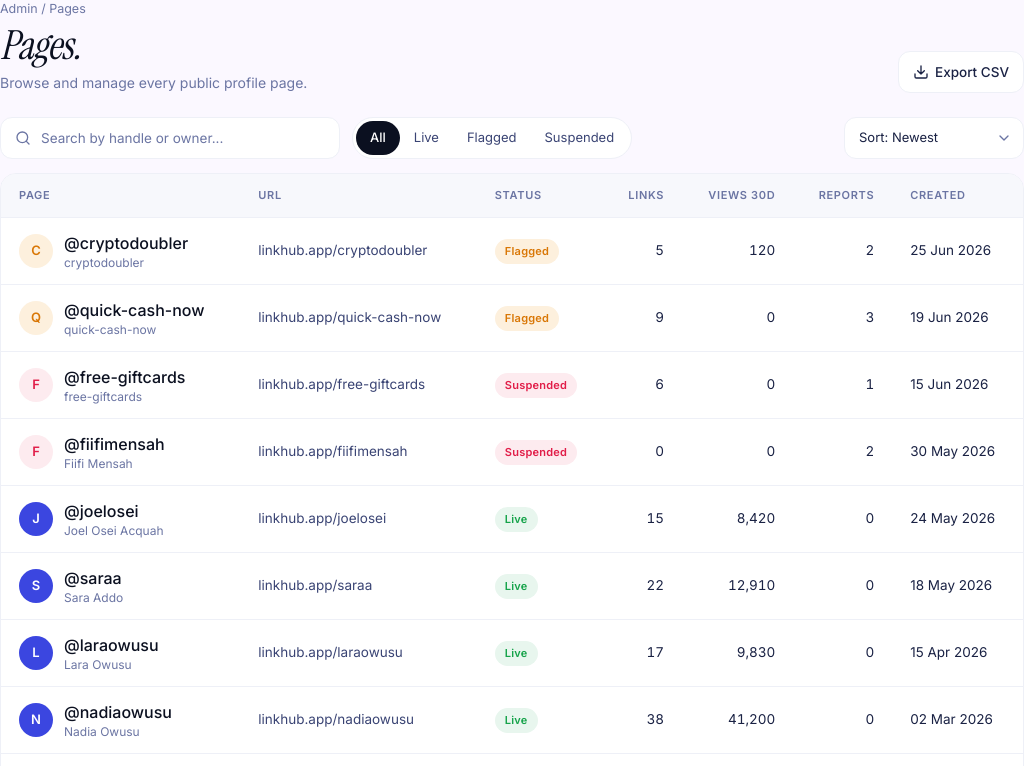
Test: PagesClient › searches by owner name
expect the text "@cryptodoubler" is shown: met, box [64,230,188,254]
In the search field named "Search pages": x=183, y=138 [41,128,325,148], type "saraa"
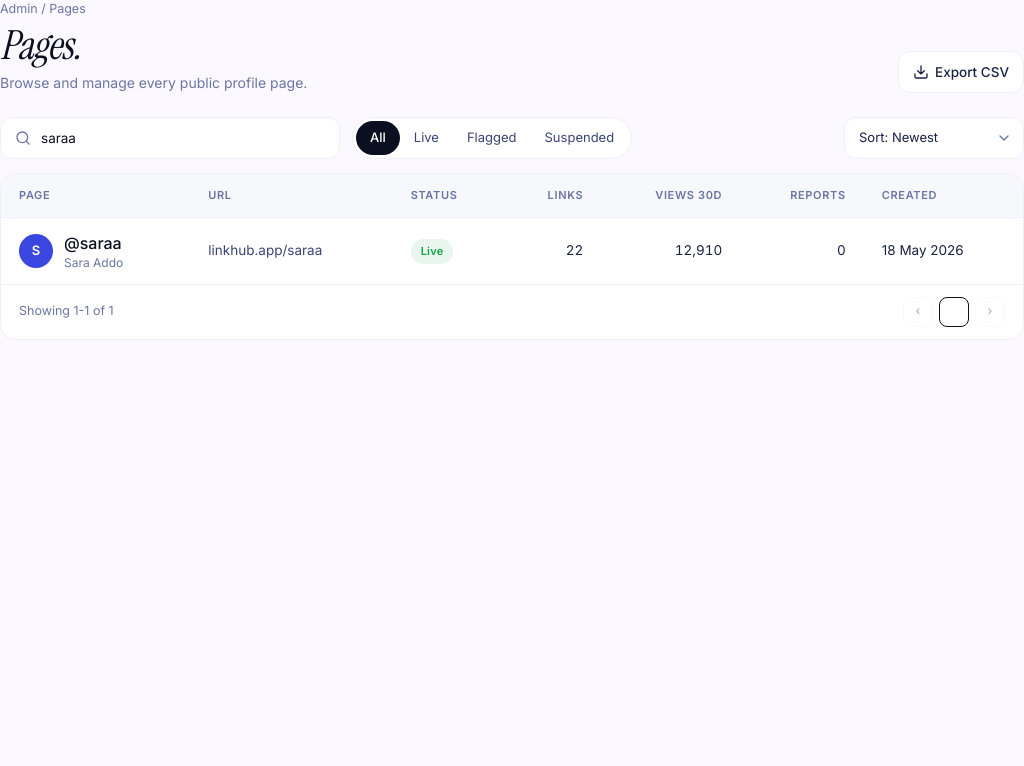
expect the text "@saraa" is shown: met, box [64,230,123,254]
expect the text "@cryptodoubler" is gone: met
